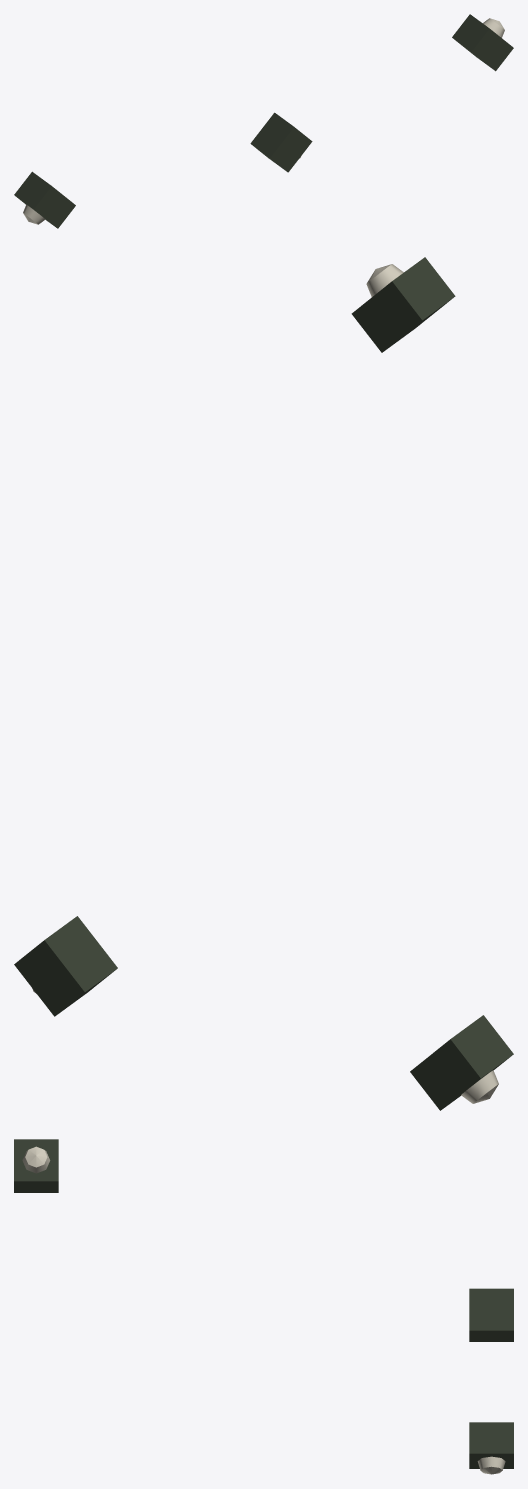
Rendered from tz16v_sensors.obj.
3 views of the same model, one above another, from view 1: azimuth 30°, elevation 25°; view 2: azimuth 150°, elevation 25°; view 3: azimuth 270°, elevation 25° (orthographic). The views are drawn at different scales.
Visible parts, largest first — view 1: tz16v_sensors; view 2: tz16v_sensors; view 3: tz16v_sensors.
Boxes of the visible parts, x1,y1,x2,y2 form: tz16v_sensors: (14, 14, 513, 228); tz16v_sensors: (14, 257, 513, 1110); tz16v_sensors: (14, 1139, 513, 1474).
Size of the model in its own units: 1.3 by 1.3 by 1.79.
